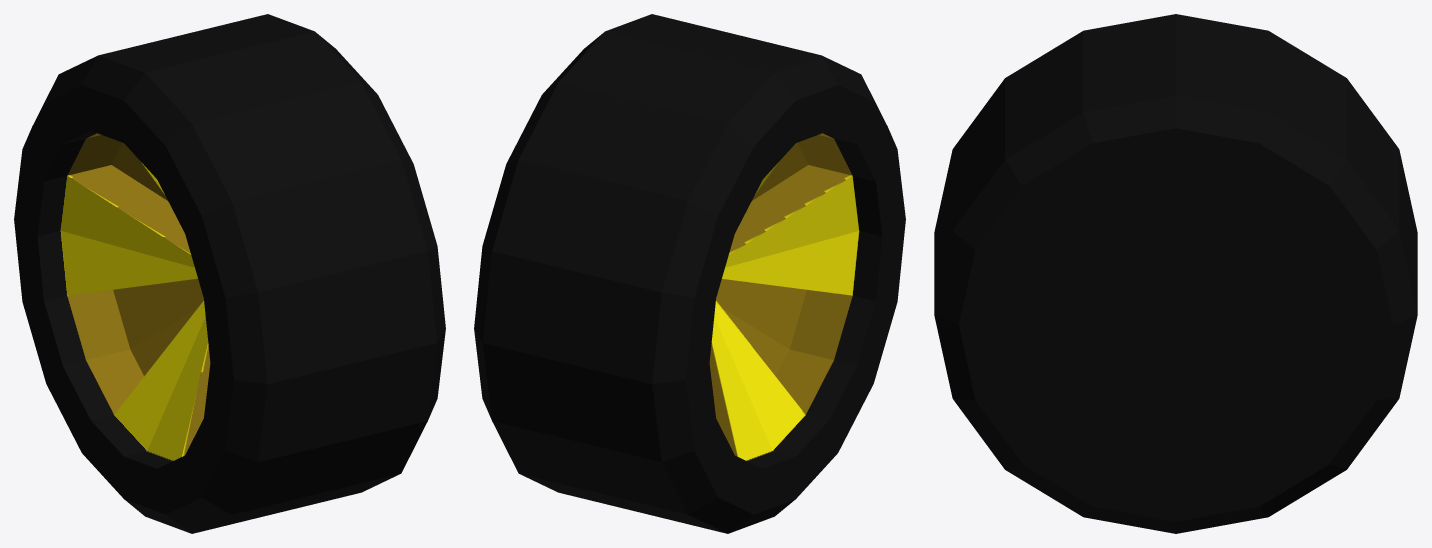
File: wheel.gltf
The picture shows the model from 3 angles, left to right: view 1: azimuth 30°, elevation 25°; view 2: azimuth 150°, elevation 25°; view 3: azimuth 270°, elevation 25°; orthographic projection.
Parts seen in each view (by area): view 1: Wheel.001; view 2: Wheel.001; view 3: Wheel.001.
Part boxes in pixels (left/top/right/bottom): Wheel.001: left=14, top=14, right=445, bottom=533; Wheel.001: left=474, top=14, right=905, bottom=533; Wheel.001: left=934, top=14, right=1417, bottom=533.
Size of the model in its own units: 1 by 2 by 2.
Materials: 1 (1 with a texture image).
